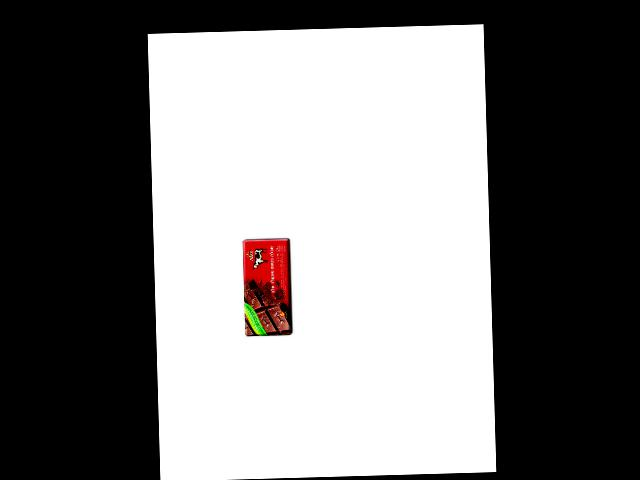chocolate: (240, 235, 296, 336)
